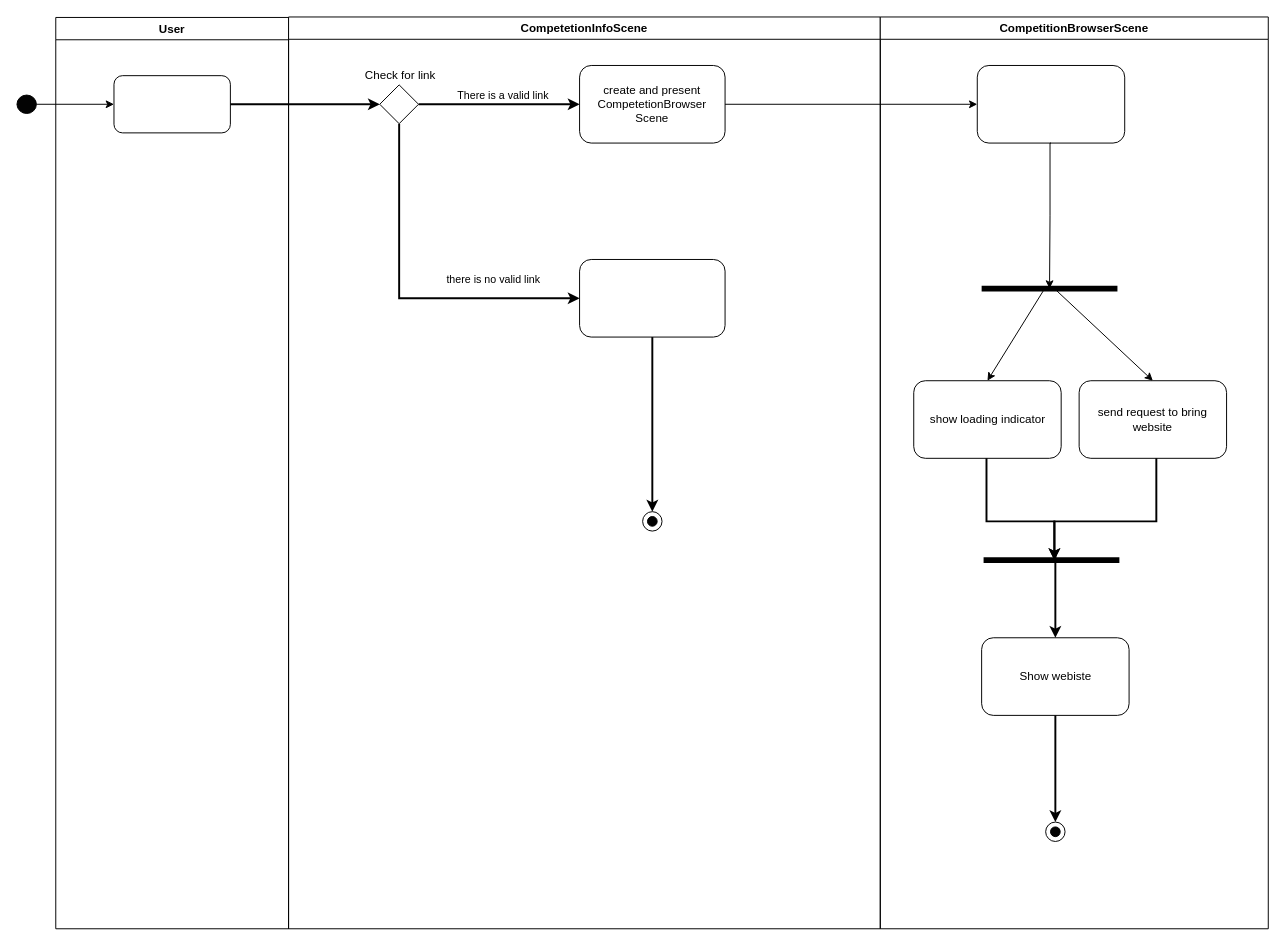
The diagram is 1285 pixels wide and 946 high, and some of its shapes have lost their labels. Each missing label, with the centre of its shape:
"construct a networking request to send" belongs at (1050,104).
"infom the user with an alert message" belongs at (652,298).
"user clicks browser icon" belongs at (171,104).
